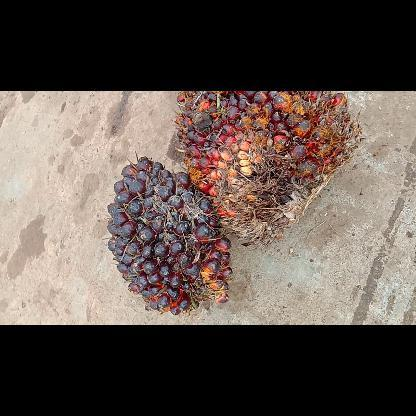TBS masak: (174, 90, 361, 244)
TBS mentah: (107, 152, 231, 314)
